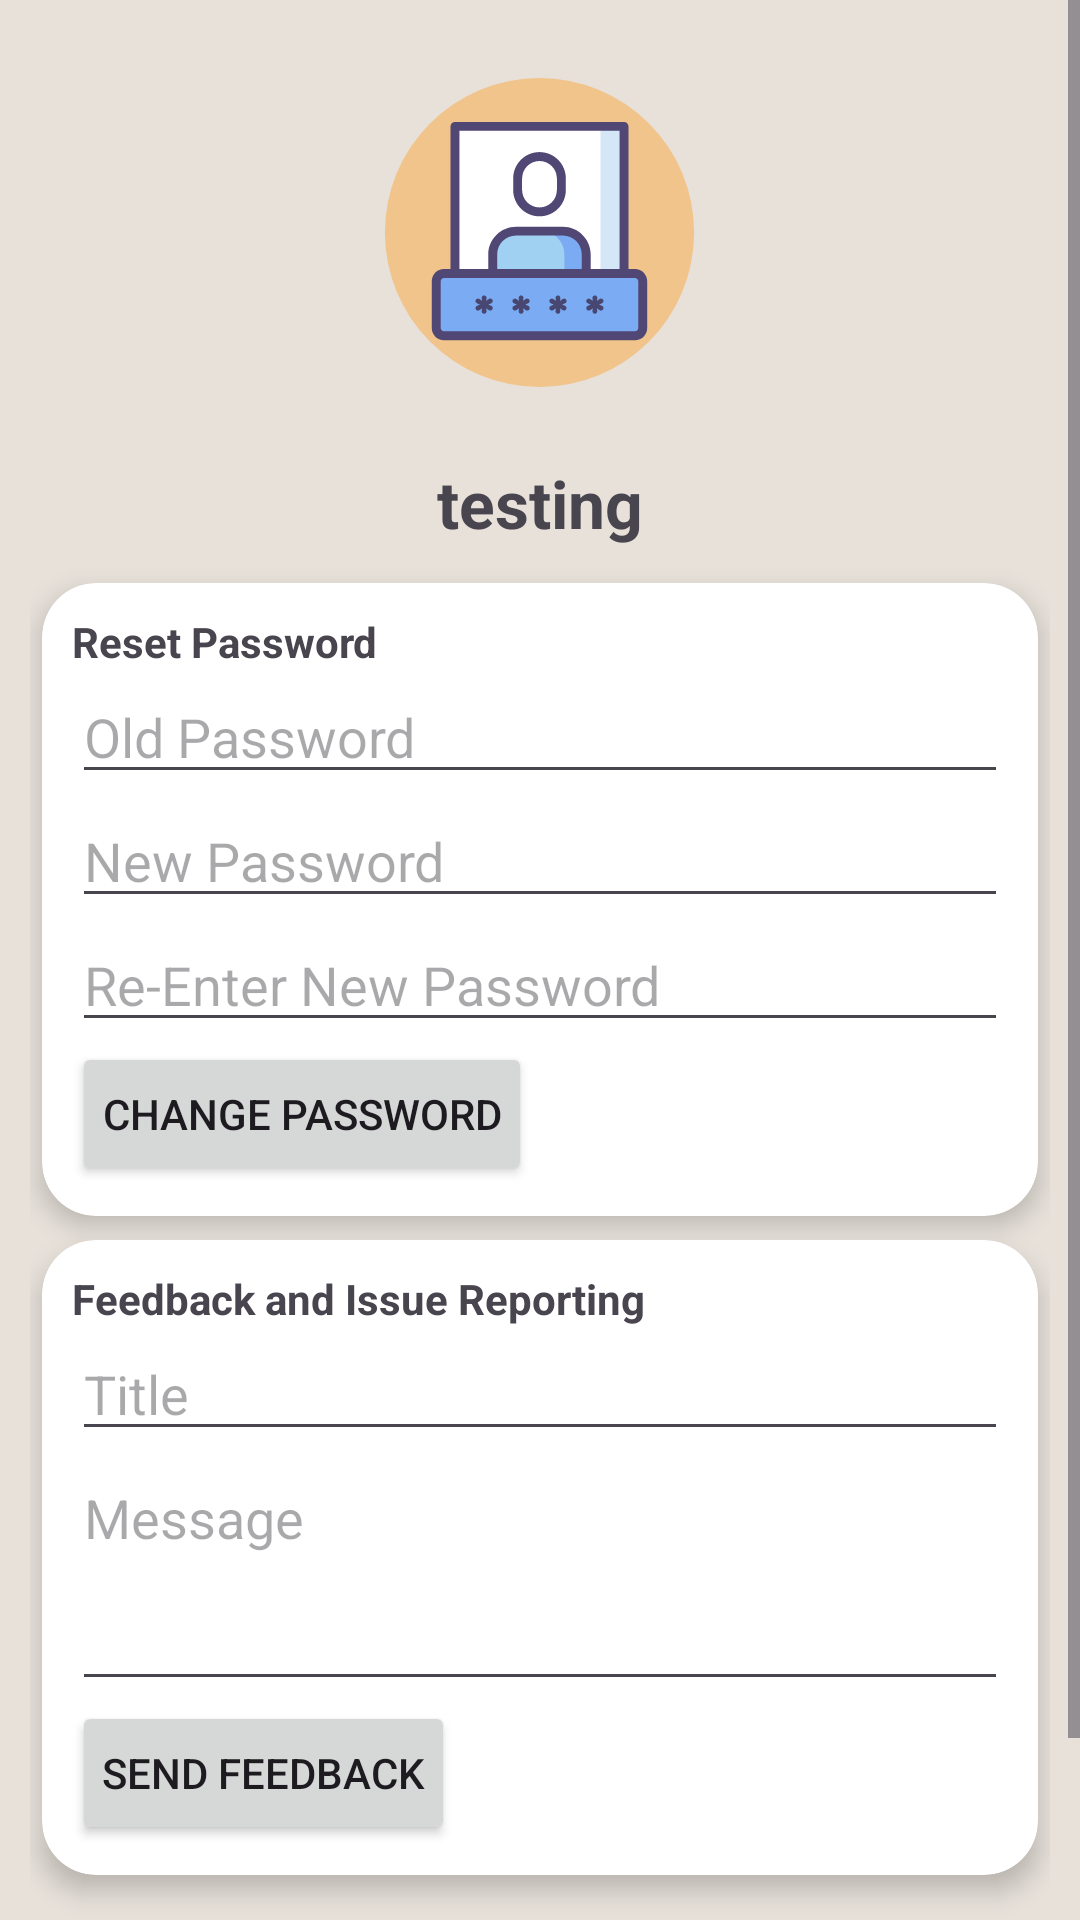

Screen size 1080 × 1920. Icon name, then its center in pixels as [x,y]:
user: [539,232]
